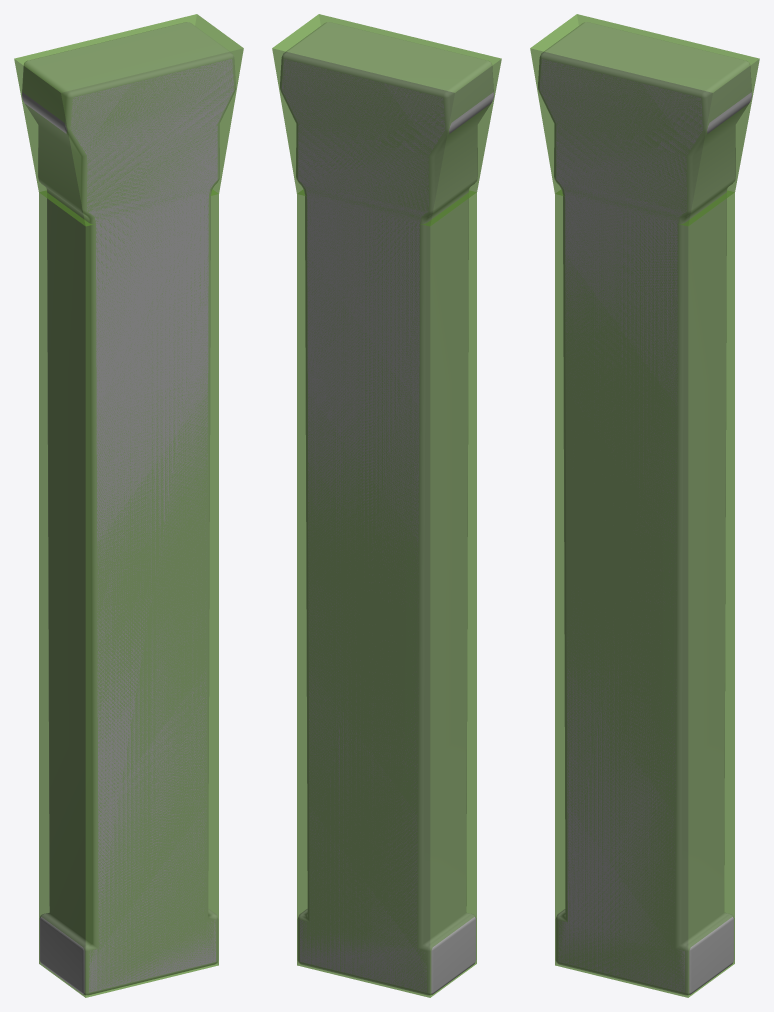
File: M_md_StallWall_end_01_l.fbx
The picture shows the model from 3 angles, left to right: view 1: azimuth 30°, elevation 25°; view 2: azimuth 150°, elevation 25°; view 3: azimuth 330°, elevation 25°; orthographic projection.
Visible parts, largest first — view 1: M_md_StallWall_end_01_l, M_md_StallWall_end_01_l_col_01, M_md_StallWall_end_01_l_col_02; view 2: M_md_StallWall_end_01_l, M_md_StallWall_end_01_l_col_01, M_md_StallWall_end_01_l_col_02; view 3: M_md_StallWall_end_01_l, M_md_StallWall_end_01_l_col_01, M_md_StallWall_end_01_l_col_02.
Part boxes in pixels (x1,y1,x2,y2): M_md_StallWall_end_01_l: (22,22,235,995); M_md_StallWall_end_01_l_col_01: (39,189,218,997); M_md_StallWall_end_01_l_col_02: (14,14,243,226); M_md_StallWall_end_01_l: (280,22,493,995); M_md_StallWall_end_01_l_col_01: (297,189,476,997); M_md_StallWall_end_01_l_col_02: (272,14,501,226); M_md_StallWall_end_01_l: (538,22,751,995); M_md_StallWall_end_01_l_col_01: (555,189,734,997); M_md_StallWall_end_01_l_col_02: (530,14,759,226).
Size of the model in its own units: 52.74 by 251 by 23.36.
